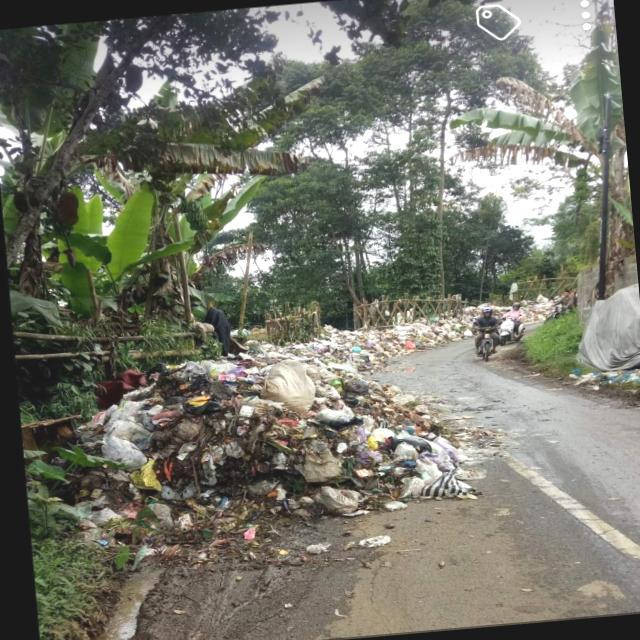garbage: (114, 273, 464, 536)
